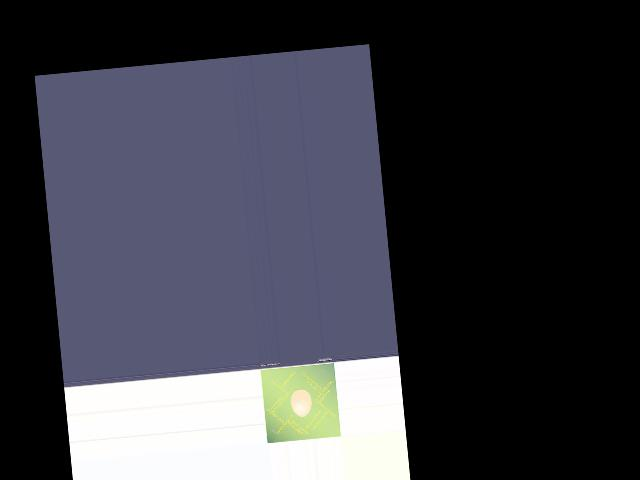egg: (289, 388, 312, 417)
